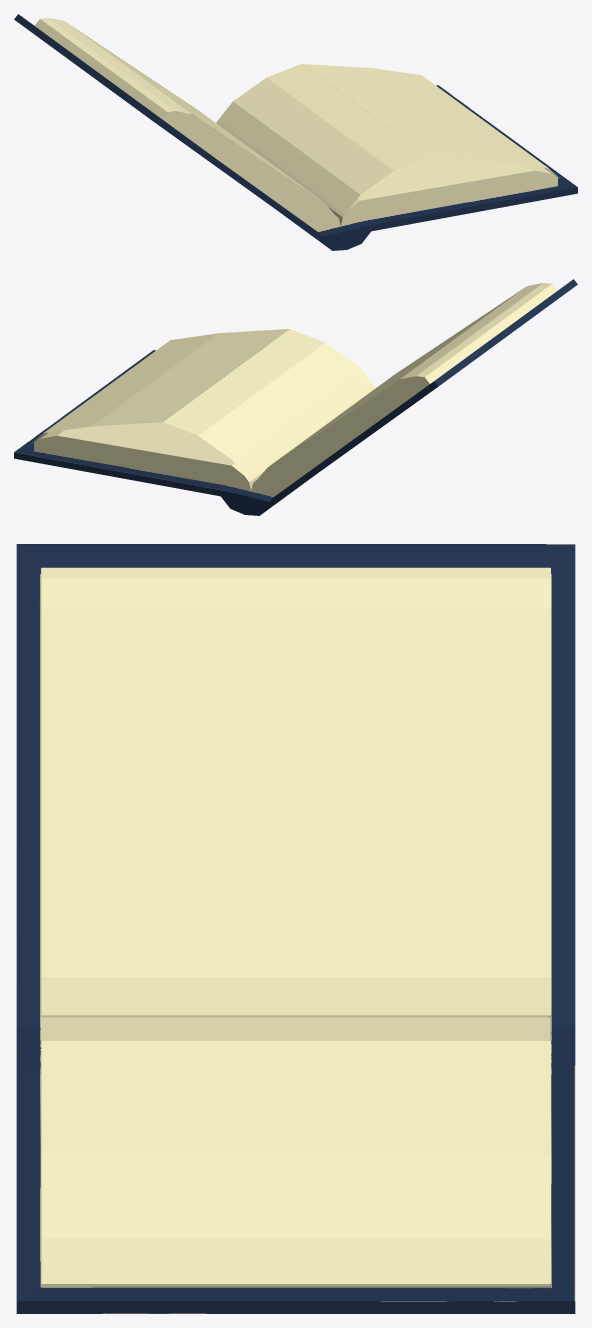
File: OpenBook 1.fbx
The picture shows the model from 3 angles, top to bottom: view 1: azimuth 30°, elevation 25°; view 2: azimuth 150°, elevation 25°; view 3: azimuth 270°, elevation 25°; orthographic projection. The views are drawn at different scales.
Visible parts, largest first — view 1: Book.001; view 2: Book.001; view 3: Book.001.
Boxes of the visible parts, bbox=[...] form: Book.001: bbox=[14, 14, 577, 250]; Book.001: bbox=[14, 279, 577, 515]; Book.001: bbox=[16, 544, 575, 1313].
Size of the model in its own units: 35.09 by 14.21 by 20.
